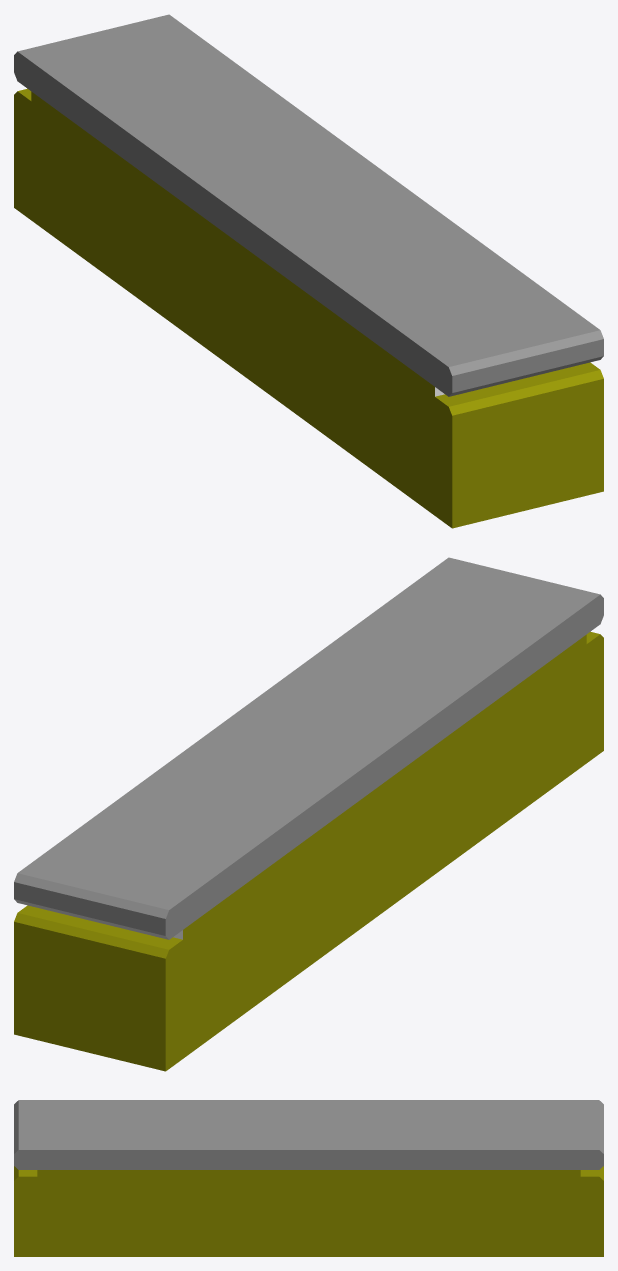
The model's file is Mesh_Levelblock_Cube_Straight.FBX.
3 renders of one model, top to bottom at view 1: azimuth 30°, elevation 25°; view 2: azimuth 150°, elevation 25°; view 3: azimuth 270°, elevation 25°, orthographic. The views are drawn at different scales.
Parts seen in each view (by area): view 1: Mesh_BlockStraight1; view 2: Mesh_BlockStraight1; view 3: Mesh_BlockStraight1.
Boxes of the visible parts, x1=… form: Mesh_BlockStraight1: x1=14, y1=14, x2=603, y2=528; Mesh_BlockStraight1: x1=14, y1=557, x2=603, y2=1071; Mesh_BlockStraight1: x1=14, y1=1100, x2=603, y2=1256.
Bounding box in the file's own units: 2 × 2 × 10.
